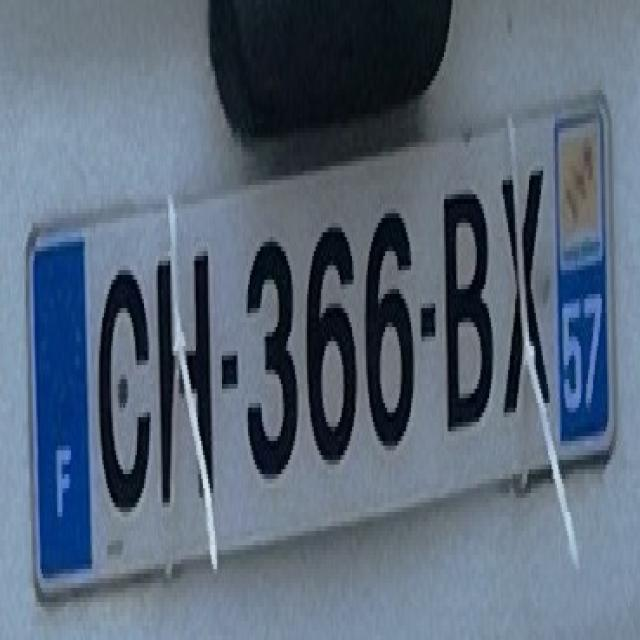EU: (33, 98, 612, 584)
France: (29, 236, 91, 584)
